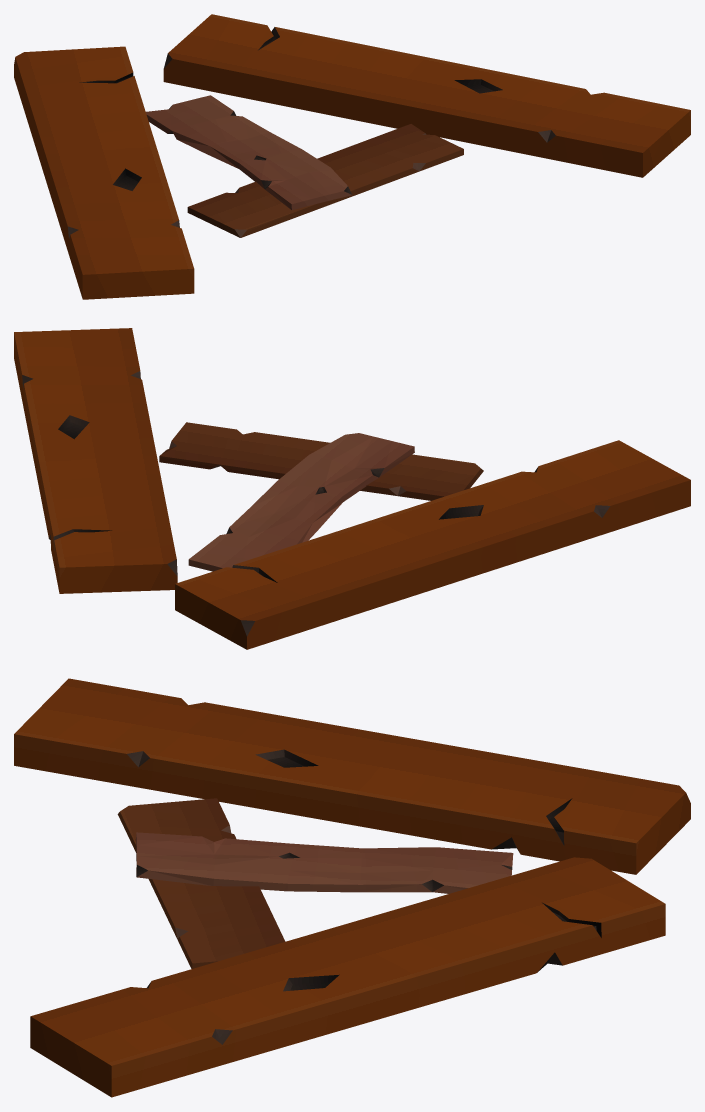
File: pilha_tabuas.glb
3 renders of one model, top to bottom at view 1: azimuth 30°, elevation 25°; view 2: azimuth 150°, elevation 25°; view 3: azimuth 270°, elevation 25°, orthographic. The views are drawn at different scales.
Visible parts, largest first — view 1: PlankStackB; view 2: PlankStackB; view 3: PlankStackB.
Boxes of the visible parts, x1,y1,x2,y2 form: PlankStackB: (14,14,690,299); PlankStackB: (14,328,690,649); PlankStackB: (14,678,690,1097).
Size of the model in its own units: 1.97 by 0.0861 by 1.45.
Materials: 1 (1 with a texture image).
